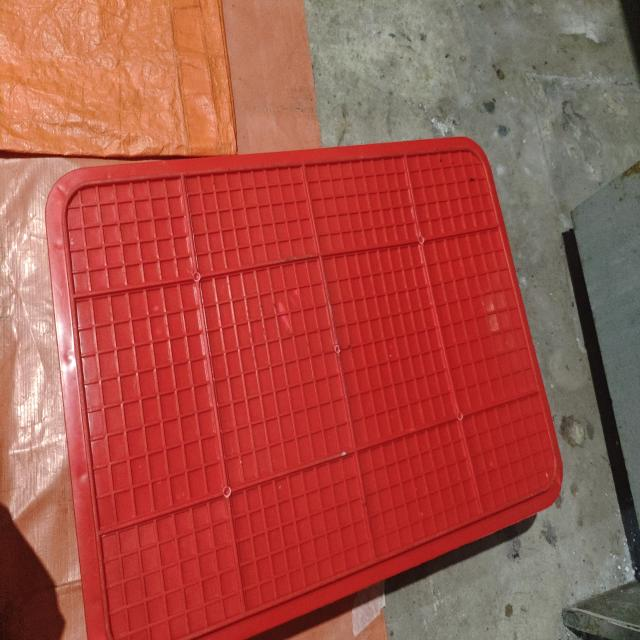red plastic box: (44, 136, 564, 640)
